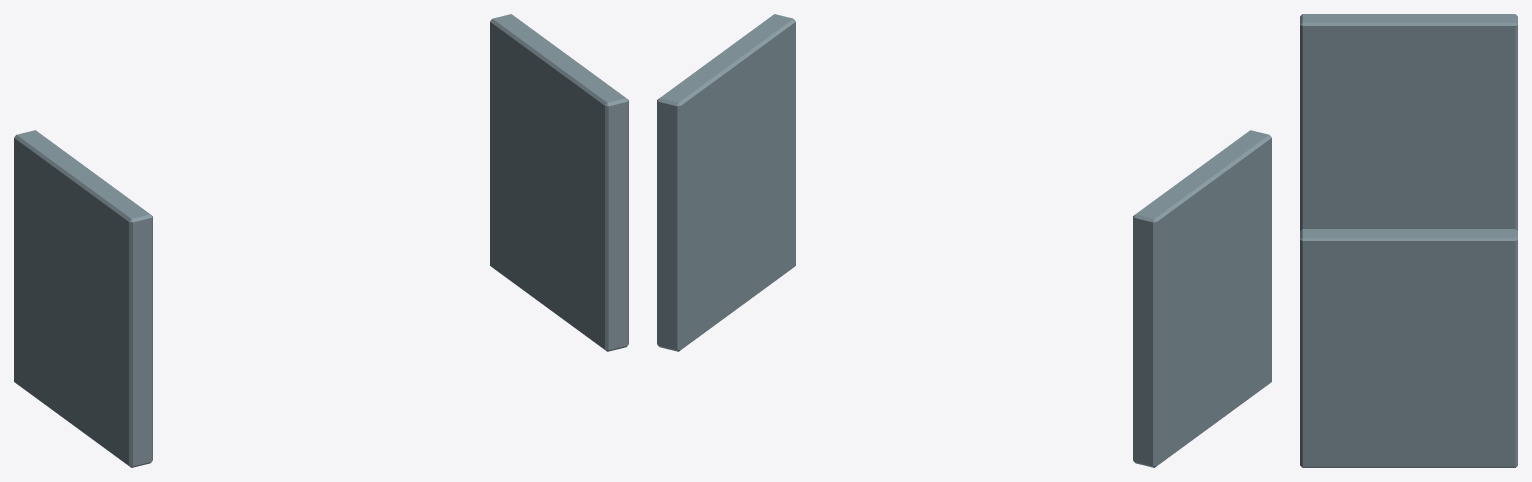
File: Utility_PipeRack_4m_Supports.glb
3 views of the same model, side by side, from view 1: azimuth 30°, elevation 25°; view 2: azimuth 150°, elevation 25°; view 3: azimuth 270°, elevation 25° (orthographic). The views are drawn at different scales.
Visible parts, largest first — view 1: Utility_PipeRack_4m_Supports; view 2: Utility_PipeRack_4m_Supports; view 3: Utility_PipeRack_4m_Supports.
Part boxes in pixels (box(x1,y1,x2,y2)): Utility_PipeRack_4m_Supports: box(14, 14, 628, 467); Utility_PipeRack_4m_Supports: box(657, 14, 1271, 467); Utility_PipeRack_4m_Supports: box(1300, 14, 1517, 467).
Bounding box in the file's own units: 2.94 × 1.4 × 1.2.
